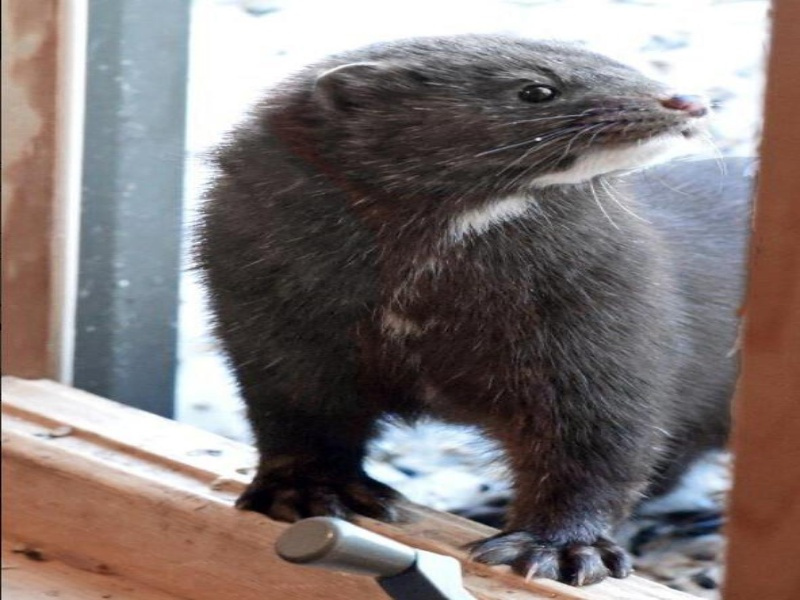minkish: (188, 30, 760, 587)
